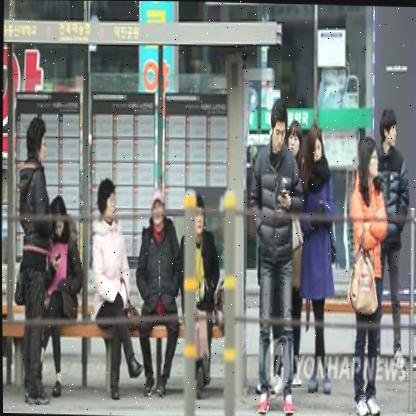person: (251, 97, 303, 416), (13, 108, 54, 409), (88, 172, 140, 406), (371, 102, 409, 390), (303, 110, 338, 405), (348, 131, 383, 416), (141, 188, 177, 397), (43, 188, 79, 390), (185, 197, 218, 396), (284, 131, 310, 362)
